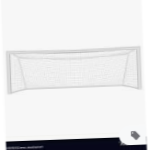goals: (5, 44, 143, 96)
